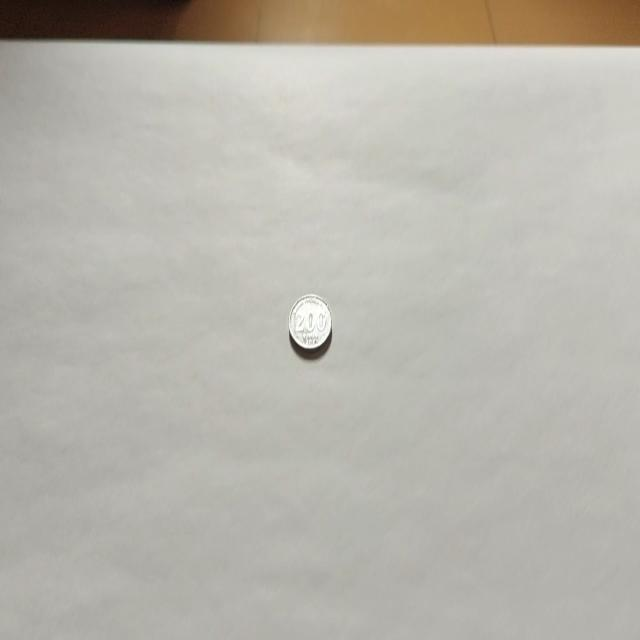dua ratus rupiah: (288, 292, 332, 354)
